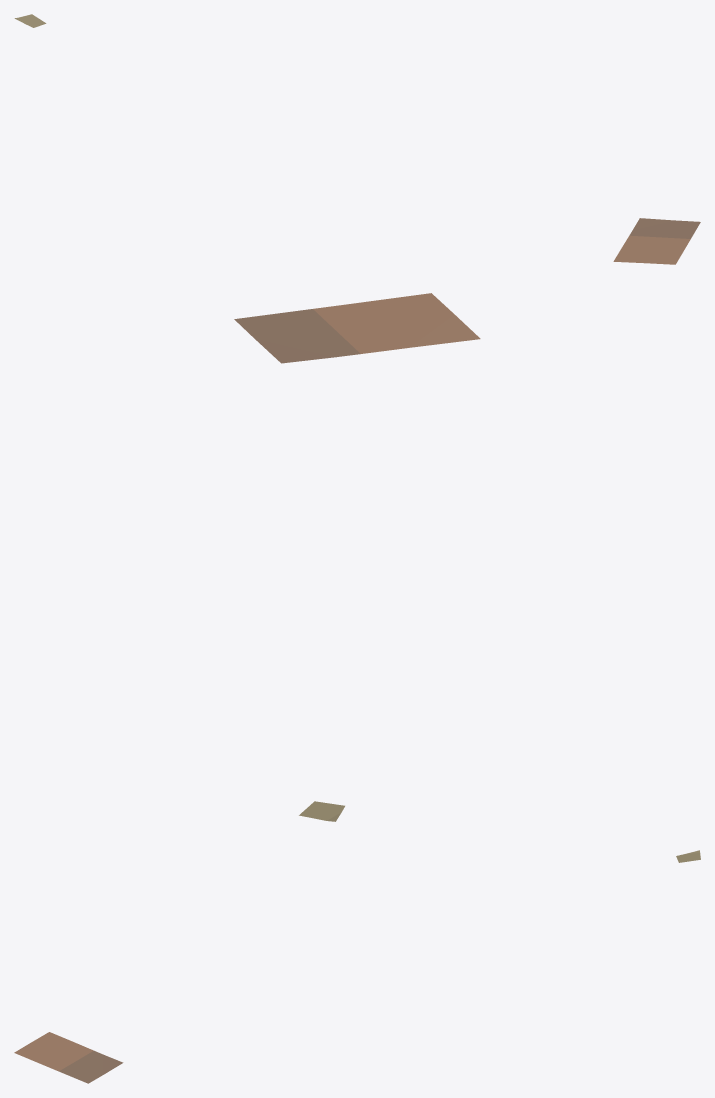
File: farm_-8_-3_soil.glb
The picture shows the model from 3 angles, top to bottom: view 1: azimuth 30°, elevation 25°; view 2: azimuth 150°, elevation 25°; view 3: azimuth 270°, elevation 25°; orthographic projection. The views are drawn at different scales.
Parts seen in each view (by area): view 1: geometry_0; view 2: geometry_0; view 3: geometry_0.
Part boxes in pixels (x1=…): geometry_0: x1=14, y1=14, x2=700, y2=264; geometry_0: x1=234, y1=293, x2=480, y2=821; geometry_0: x1=14, y1=850, x2=700, y2=1083.
Size of the model in its own units: 316 by 50.42 by 528.
